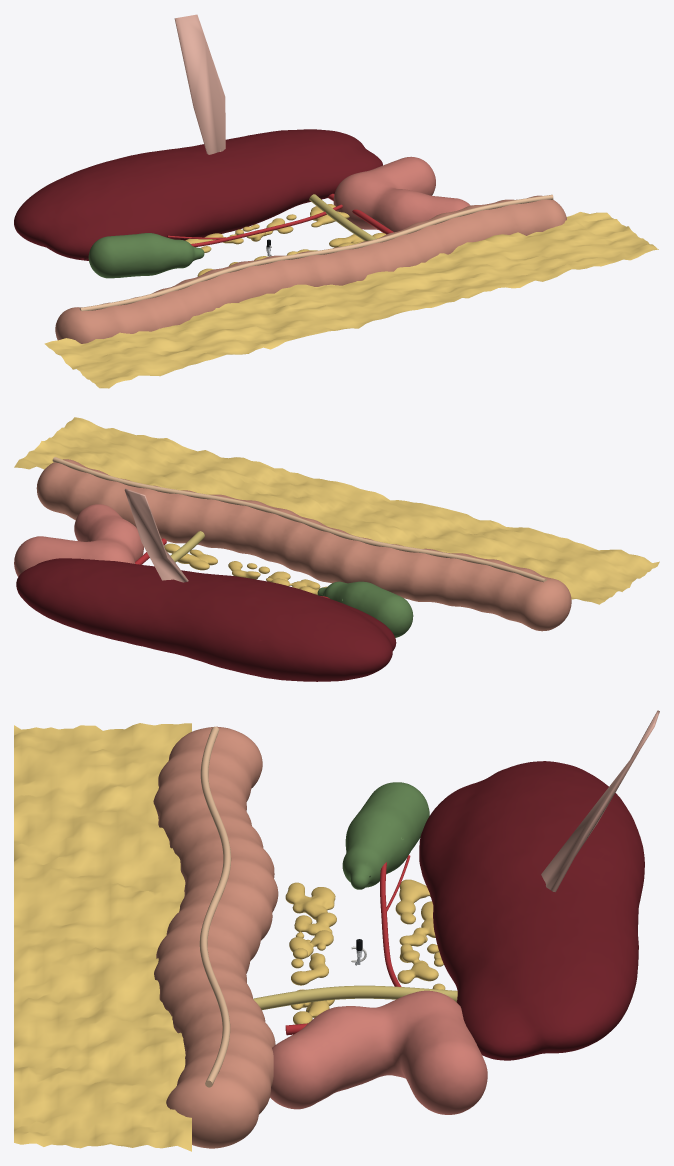
Rendered from lap-anatomy.glb.
The picture shows the model from 3 angles, top to bottom: view 1: azimuth 30°, elevation 25°; view 2: azimuth 150°, elevation 25°; view 3: azimuth 270°, elevation 25°; orthographic projection. The views are drawn at different scales.
Visible parts, largest first — view 1: LA_omentum, LA_liver, LA_colon, LA_duodenum, LA_gallbladder, LA_ligament, LA_fat, LA_artery, LA_cbd; view 2: LA_liver, LA_omentum, LA_colon, LA_duodenum, LA_gallbladder, LA_ligament, LA_fat; view 3: LA_omentum, LA_liver, LA_colon, LA_duodenum, LA_fat, LA_gallbladder, LA_ligament, LA_cbd, LA_artery.
Boxes of the visible parts, bbox=[...] form: LA_omentum: bbox=[44, 212, 658, 388]; LA_liver: bbox=[14, 129, 382, 260]; LA_colon: bbox=[55, 194, 566, 343]; LA_duodenum: bbox=[333, 156, 470, 232]; LA_gallbladder: bbox=[88, 233, 204, 278]; LA_ligament: bbox=[174, 14, 225, 154]; LA_fat: bbox=[185, 204, 386, 276]; LA_artery: bbox=[167, 193, 393, 246]; LA_cbd: bbox=[309, 194, 376, 241]; LA_liver: bbox=[16, 558, 396, 681]; LA_omentum: bbox=[14, 417, 659, 604]; LA_colon: bbox=[36, 457, 571, 631]; LA_duodenum: bbox=[14, 504, 143, 576]; LA_gallbladder: bbox=[317, 581, 413, 637]; LA_ligament: bbox=[124, 488, 188, 582]; LA_fat: bbox=[164, 543, 327, 594]; LA_omentum: bbox=[14, 723, 191, 1151]; LA_liver: bbox=[419, 761, 644, 1060]; LA_colon: bbox=[153, 726, 278, 1148]; LA_duodenum: bbox=[270, 990, 487, 1114]; LA_fat: bbox=[285, 879, 445, 1024]; LA_gallbladder: bbox=[342, 782, 429, 889]; LA_ligament: bbox=[541, 710, 659, 892]; LA_cbd: bbox=[253, 985, 457, 1010]; LA_artery: bbox=[285, 855, 410, 1035].
Bounding box in the file's own units: 19 × 5.87 × 12.34.
